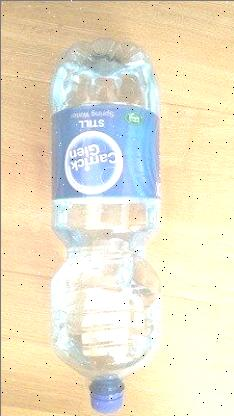Plastic Bottle: (50, 38, 160, 412)
